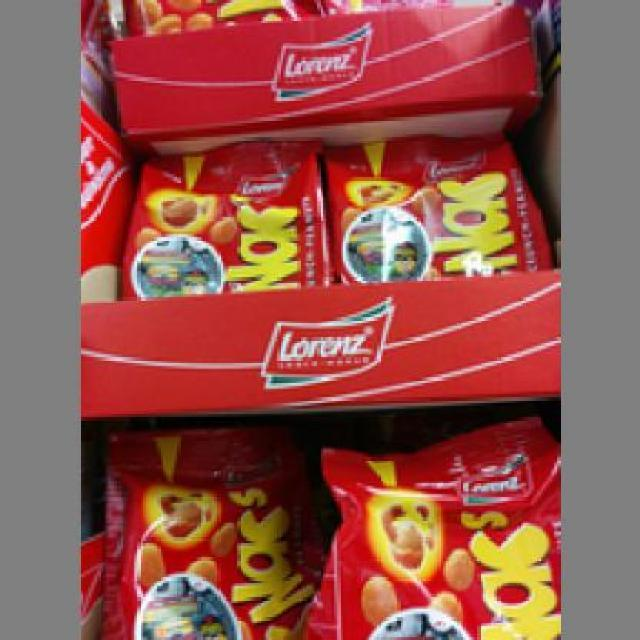Nuts: (305, 414, 558, 637), (94, 422, 314, 638), (320, 125, 549, 281), (111, 140, 332, 294)
